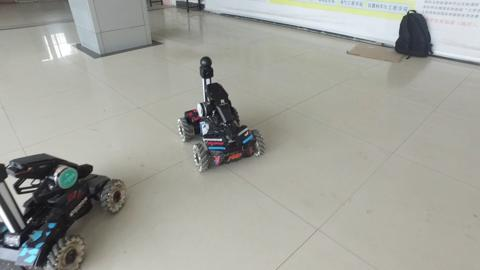bag: (380, 3, 437, 61)
chariot: (172, 52, 265, 180)
